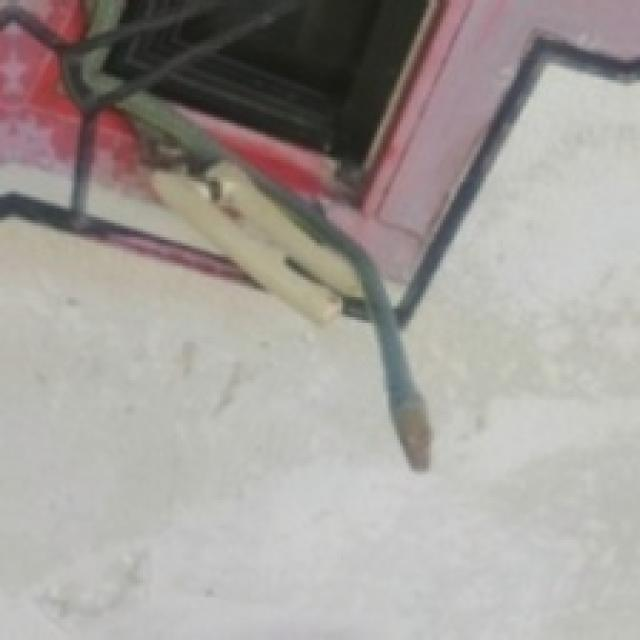paradise tree snake: (0, 0, 429, 469), (66, 0, 429, 469)
